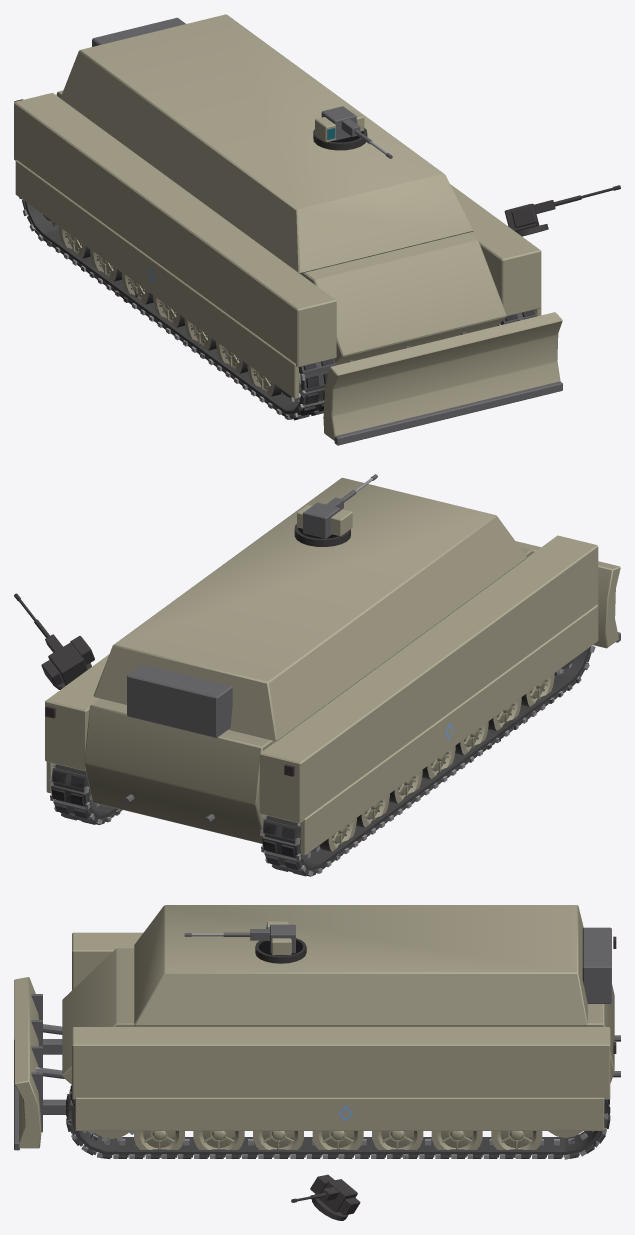
Rendered from recoveryVehicle__atlas.glb.
3 renders of one model, top to bottom at view 1: azimuth 30°, elevation 25°; view 2: azimuth 150°, elevation 25°; view 3: azimuth 270°, elevation 25°, orthographic. The views are drawn at different scales.
Visible parts, largest first — view 1: Hull_Mesh, Track_L_Mesh, Wreck, Turret_Mesh; view 2: Hull_Mesh, Track_L_Mesh, Wreck, Track_R_Mesh, Turret_Mesh; view 3: Hull_Mesh, Track_R_Mesh, Wreck, Wheel_R3_Mesh, Wheel_R1_Mesh, Wheel_R5_Mesh, Wheel_R0_Mesh, Wheel_R2_Mesh, Wheel_R6_Mesh, Wheel_R4_Mesh, Turret_Mesh, Gun_Mesh.
Boxes of the visible parts, <box> form: Hull_Mesh: <box>14,14,562,445</box>; Track_L_Mesh: <box>19,197,335,420</box>; Wreck: <box>19,128,620,419</box>; Turret_Mesh: <box>315,106,364,142</box>; Hull_Mesh: <box>45,477,620,855</box>; Track_L_Mesh: <box>260,645,595,876</box>; Wreck: <box>14,524,594,875</box>; Track_R_Mesh: <box>49,763,122,824</box>; Turret_Mesh: <box>297,502,352,538</box>; Hull_Mesh: <box>14,905,620,1150</box>; Track_R_Mesh: <box>66,1085,610,1159</box>; Wreck: <box>66,938,609,1220</box>; Wheel_R3_Mesh: <box>312,1131,363,1158</box>; Wheel_R1_Mesh: <box>431,1131,482,1156</box>; Wheel_R5_Mesh: <box>193,1131,244,1157</box>; Wheel_R0_Mesh: <box>491,1131,542,1157</box>; Wheel_R2_Mesh: <box>372,1131,423,1157</box>; Wheel_R6_Mesh: <box>134,1131,184,1158</box>; Wheel_R4_Mesh: <box>253,1131,303,1157</box>; Turret_Mesh: <box>266,921,295,955</box>; Gun_Mesh: <box>184,929,269,940</box>.
Size of what is drawn, in the model's own units: 6.33 by 2.76 by 7.95.
